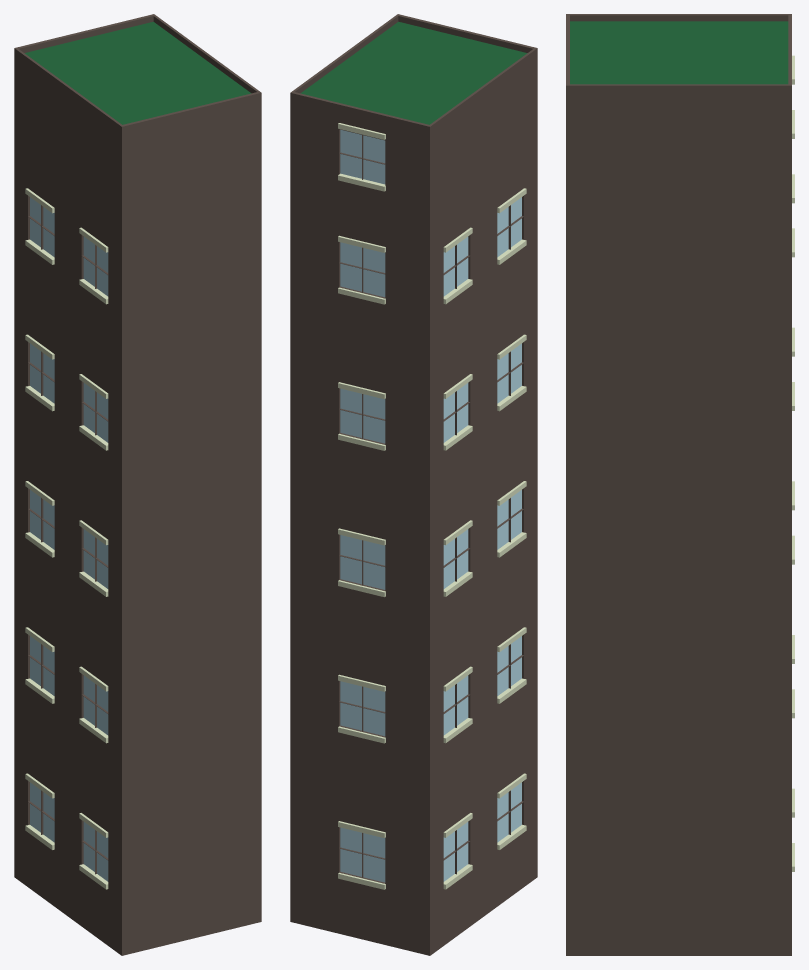
File: 5building_10_L.glb
The picture shows the model from 3 angles, left to right: view 1: azimuth 30°, elevation 25°; view 2: azimuth 150°, elevation 25°; view 3: azimuth 270°, elevation 25°; orthographic projection. The views are drawn at different scales.
Parts seen in each view (by area): view 1: back_L; view 2: back_L; view 3: back_L.
Part boxes in pixels (x1,y1,x2,y2): back_L: (14, 14, 261, 955); back_L: (290, 14, 537, 955); back_L: (566, 14, 794, 955).
Bounding box in the file's own units: 30.5 × 170 × 40.5.
